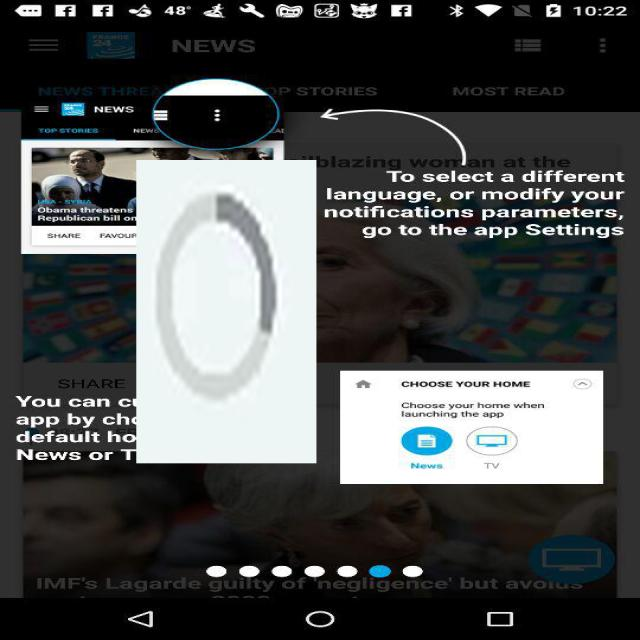misdirection: (136, 160, 316, 463)
